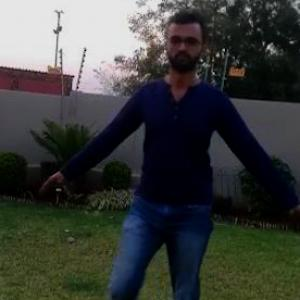land: (76, 47, 299, 299)
